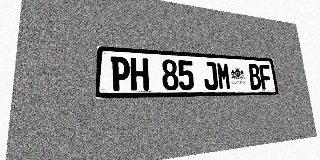5: (178, 60, 195, 90)
8: (161, 59, 179, 90)
B: (248, 64, 262, 89)
F: (259, 64, 273, 89)
H: (130, 57, 149, 91)
J: (202, 61, 218, 90)
M: (216, 62, 232, 90)
P: (110, 56, 130, 91)
